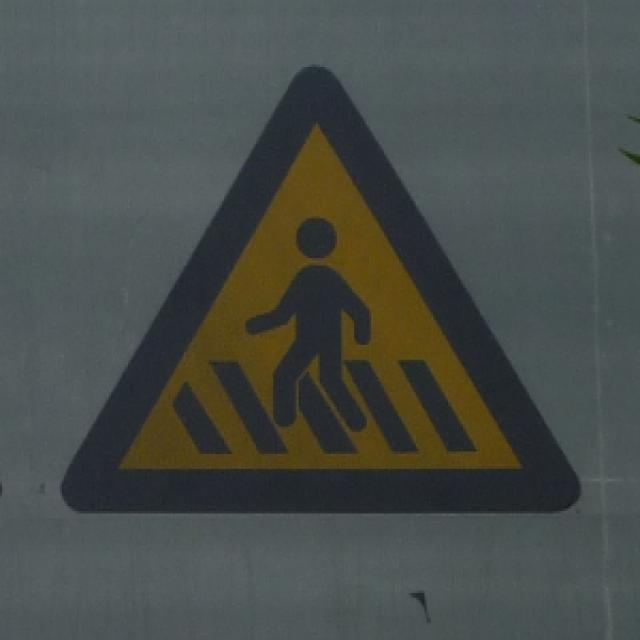Crossing: (56, 51, 602, 529)
